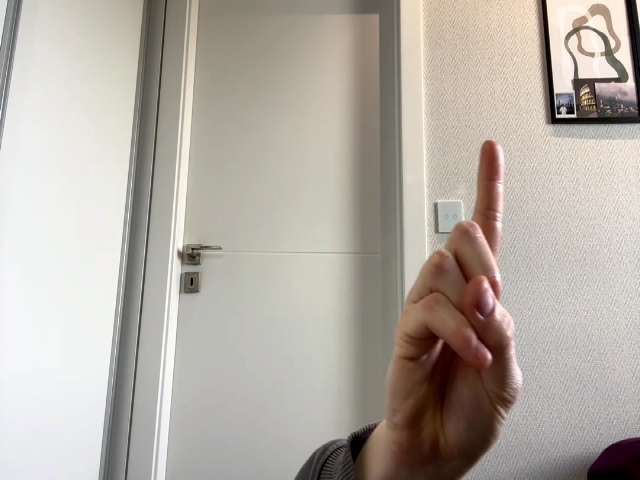Z: (386, 141, 524, 453)
